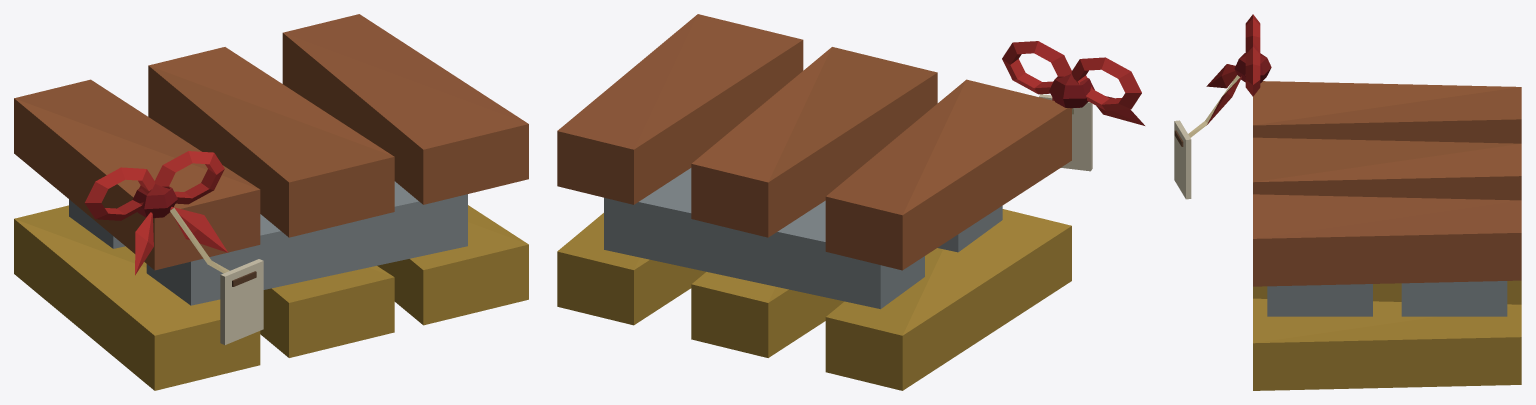
Rendered from quest_silver_bars.glb.
3 views of the same model, side by side, from view 1: azimuth 30°, elevation 25°; view 2: azimuth 150°, elevation 25°; view 3: azimuth 270°, elevation 25° (orthographic). The views are drawn at different scales.
Visible parts, largest first — view 1: quest_silver_bars; view 2: quest_silver_bars; view 3: quest_silver_bars.
Part boxes in pixels (box(x1,y1,x2,y2)): quest_silver_bars: box(14, 14, 528, 390); quest_silver_bars: box(557, 14, 1144, 390); quest_silver_bars: box(1174, 14, 1521, 390).
Bounding box in the file's own units: 0.475 × 0.2368 × 0.3713.
